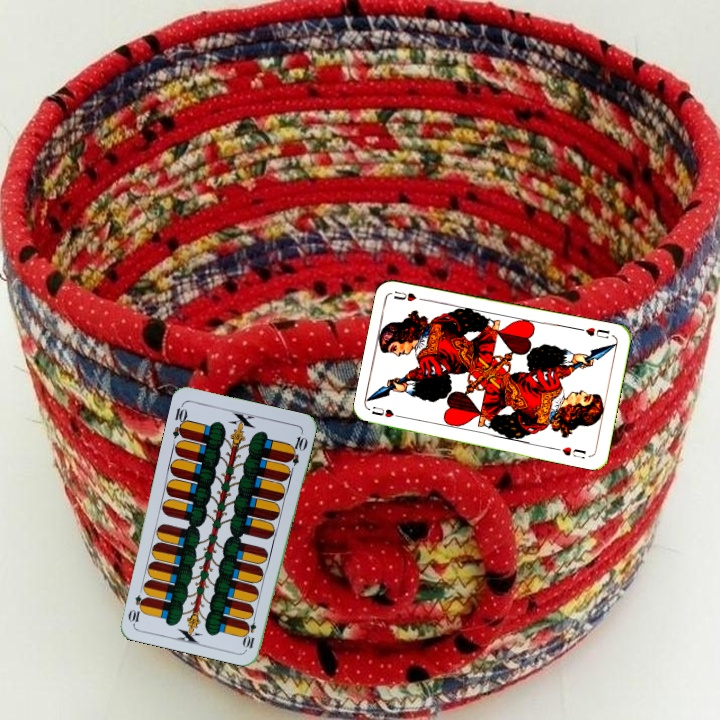E10: (169, 400, 190, 441), (241, 610, 259, 651)
HU: (368, 402, 407, 421), (582, 323, 612, 341)
